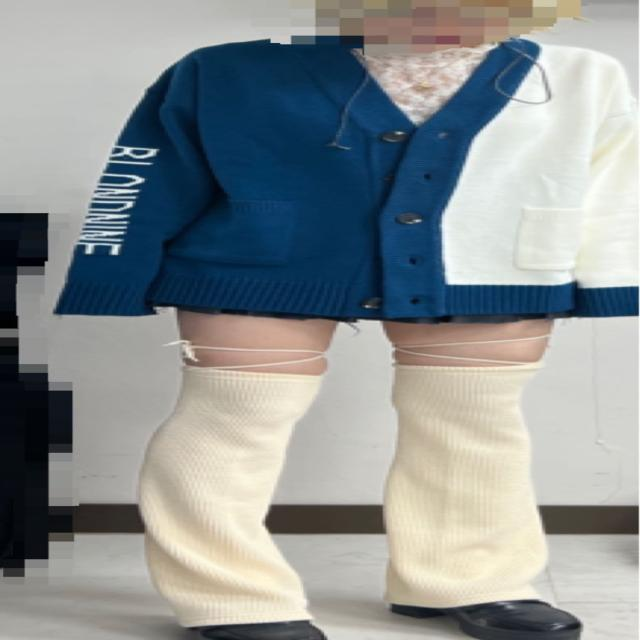cardigan: (49, 27, 640, 328)
